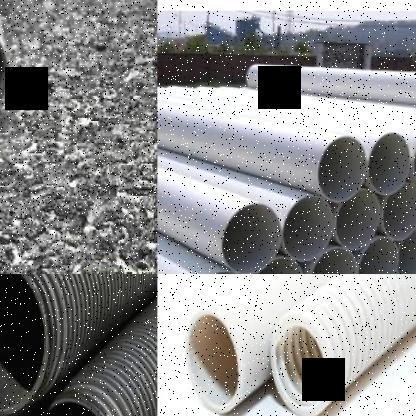pipe: (270, 310, 332, 416), (0, 274, 45, 413), (185, 308, 241, 415), (222, 202, 281, 274), (281, 197, 334, 262), (318, 136, 368, 202), (368, 132, 410, 195), (336, 190, 380, 250), (382, 182, 416, 242), (356, 236, 399, 274), (30, 399, 120, 416), (309, 247, 357, 274), (250, 256, 304, 274), (396, 228, 416, 274)
